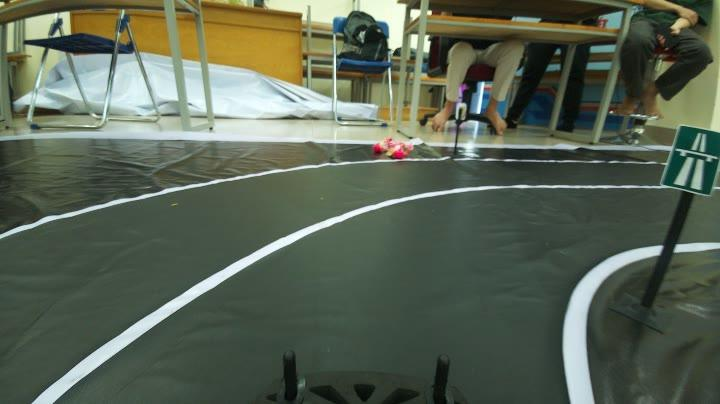highway_entry: (661, 116, 720, 201)
